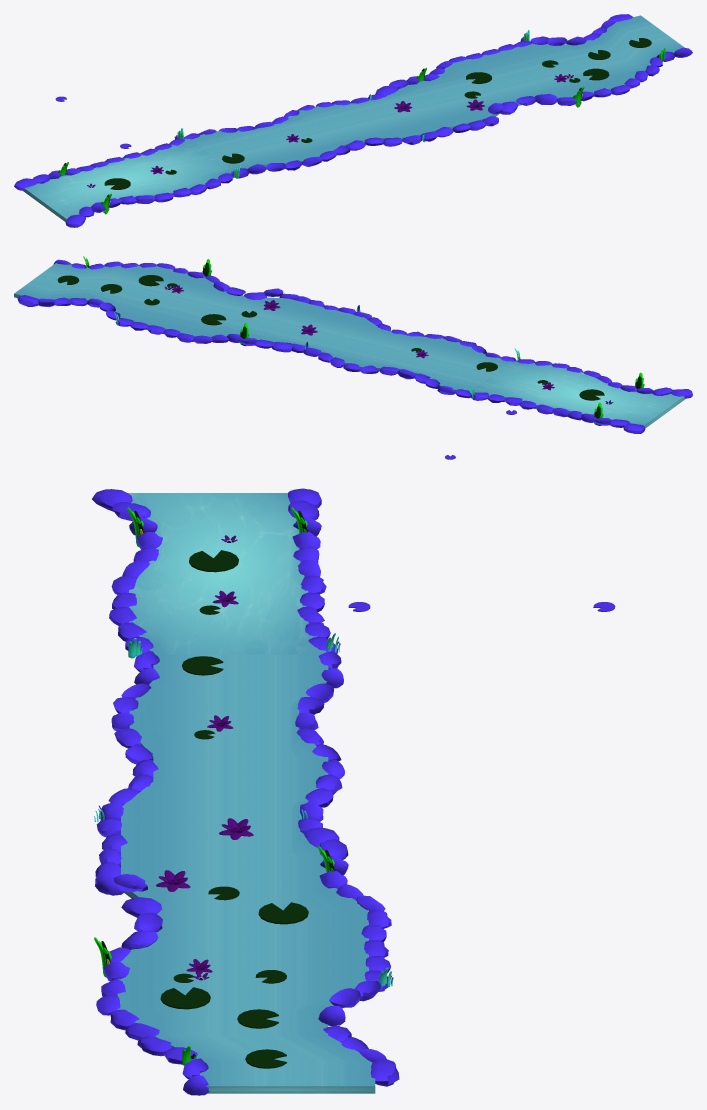
File: Lake.fbx
3 views of the same model, one above another, from view 1: azimuth 30°, elevation 25°; view 2: azimuth 150°, elevation 25°; view 3: azimuth 270°, elevation 25° (orthographic). The views are drawn at different scales.
Visible parts, largest first — view 1: Box001, Pond, Pond001, Pond002, Pond003; view 2: Box001, Pond001, Pond002, Pond, Pond003; view 3: Box001, Pond, Pond001, Pond002, Pond003.
Part boxes in pixels (x1=…): Box001: x1=23, y1=15, x2=684, y2=221; Pond: x1=65, y1=91, x2=480, y2=227; Pond001: x1=14, y1=50, x2=610, y2=190; Pond002: x1=55, y1=14, x2=633, y2=137; Pond003: x1=150, y1=38, x2=692, y2=174; Box001: x1=14, y1=263, x2=685, y2=428; Pond001: x1=100, y1=283, x2=645, y2=433; Pond002: x1=17, y1=288, x2=455, y2=459; Pond: x1=241, y1=305, x2=692, y2=404; Pond003: x1=53, y1=256, x2=554, y2=390; Box001: x1=117, y1=493, x2=375, y2=1093; Pond: x1=92, y1=489, x2=253, y2=900; Pond001: x1=156, y1=488, x2=370, y2=1028; Pond002: x1=95, y1=602, x2=615, y2=1086; Pond003: x1=94, y1=590, x2=286, y2=1095.
Bounding box in the file's own units: 8278 × 269 × 3045.
8 materials, 1 textured.
